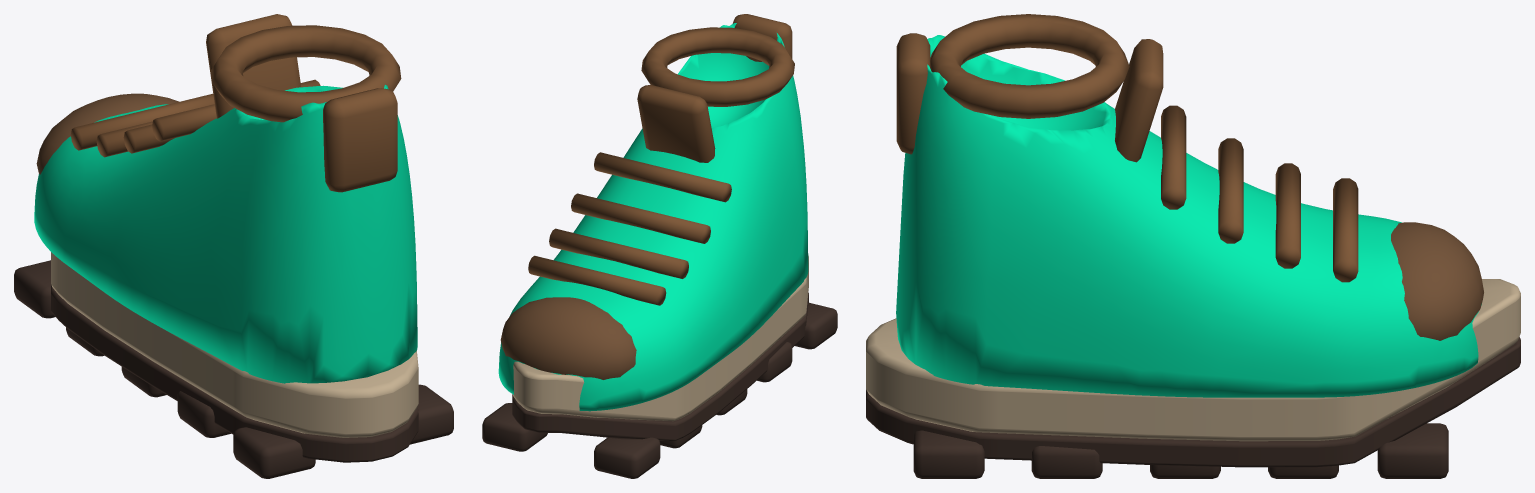
The model's file is shoe_trail.fbx.
The picture shows the model from 3 angles, left to right: view 1: azimuth 30°, elevation 25°; view 2: azimuth 150°, elevation 25°; view 3: azimuth 270°, elevation 25°; orthographic projection. The views are drawn at different scales.
Parts seen in each view (by area): view 1: shoe_trail; view 2: shoe_trail; view 3: shoe_trail.
Part boxes in pixels (x1,y1,x2,y2): shoe_trail: [14, 14, 453, 478]; shoe_trail: [482, 14, 837, 478]; shoe_trail: [866, 14, 1520, 478].
Size of the model in its own units: 1.56 by 2.53 by 3.88.
Materials: 1 (1 with a texture image).
